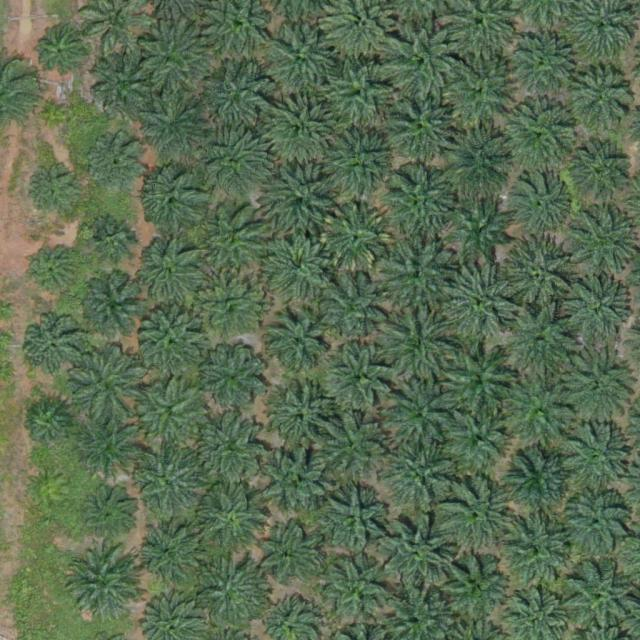Healthy: (506, 25, 584, 104), (498, 236, 576, 315), (503, 305, 581, 384), (438, 264, 516, 343), (441, 121, 519, 200), (438, 54, 516, 133), (383, 22, 461, 101), (381, 87, 459, 166), (381, 161, 459, 240), (379, 236, 457, 315), (373, 308, 451, 387), (136, 17, 214, 96), (67, 345, 145, 424), (63, 545, 141, 624), (319, 554, 397, 633), (383, 376, 461, 455), (382, 434, 460, 513), (379, 519, 457, 598), (439, 337, 517, 416), (442, 399, 520, 478), (439, 475, 517, 554), (433, 546, 511, 625), (497, 372, 575, 451), (556, 423, 634, 502), (558, 346, 636, 425), (559, 561, 637, 640), (195, 554, 273, 632), (325, 59, 396, 130), (325, 126, 396, 197), (267, 384, 338, 455), (504, 517, 575, 588), (570, 207, 640, 278), (565, 67, 635, 138), (506, 104, 576, 175), (263, 230, 333, 301), (265, 96, 335, 167), (267, 27, 337, 98), (199, 126, 269, 197), (197, 205, 268, 275), (194, 271, 264, 342), (139, 309, 209, 380), (132, 237, 203, 307), (139, 164, 209, 235), (142, 90, 212, 161), (92, 52, 162, 123), (200, 340, 270, 411), (197, 412, 267, 483), (258, 444, 328, 515), (317, 414, 387, 485), (318, 484, 388, 555), (506, 447, 577, 517), (562, 490, 632, 561), (560, 274, 630, 344), (321, 275, 391, 345), (263, 308, 333, 378), (267, 167, 337, 237), (200, 63, 270, 133), (326, 343, 396, 413), (137, 382, 207, 452), (76, 414, 146, 484), (135, 449, 205, 519), (197, 483, 267, 553), (510, 173, 573, 236), (87, 133, 150, 196), (82, 278, 145, 341), (257, 524, 320, 587), (570, 141, 632, 204), (449, 198, 512, 260), (22, 317, 85, 379), (140, 524, 202, 587), (28, 166, 83, 221), (27, 246, 82, 301), (34, 26, 89, 81), (83, 485, 137, 540), (26, 400, 73, 448), (90, 217, 137, 264)
Small: (49, 102, 73, 126)
Yellow: (322, 202, 392, 273)
